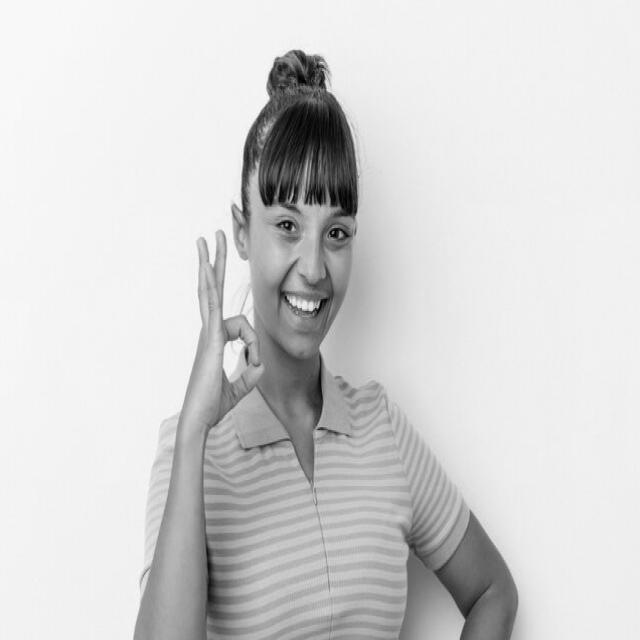perfect: (175, 223, 268, 452)
